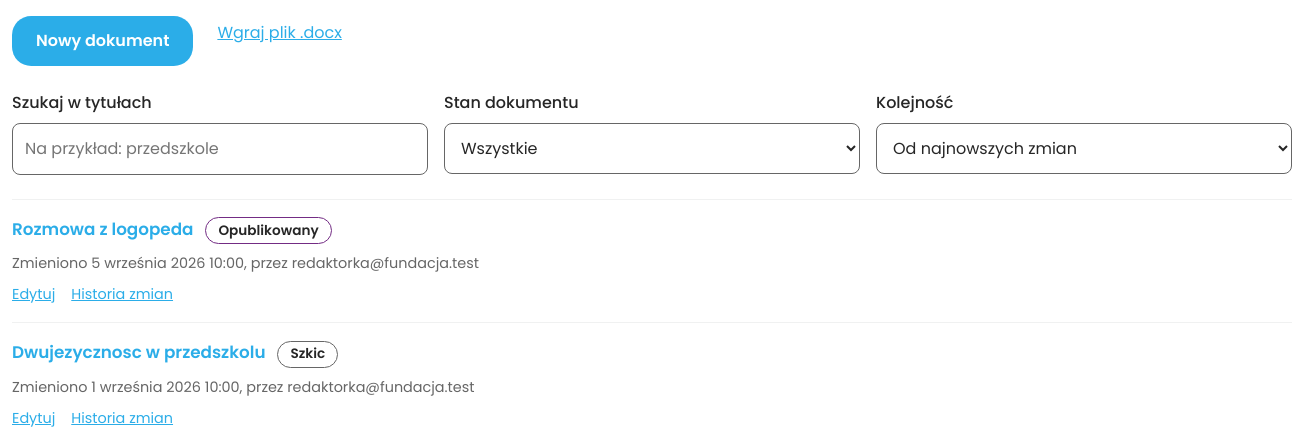
Test: DocumentsList › narrows the list by title
This screenshot has width=1304, height=444.
Check: the link "Dwujezycznosc w przedszkolu" is shown, box [12,339,266,366]
Type "logoped" into the search field labelled "Szukaj w tytułach".
click(220, 149); type("logoped")  # box [12,123,428,175]
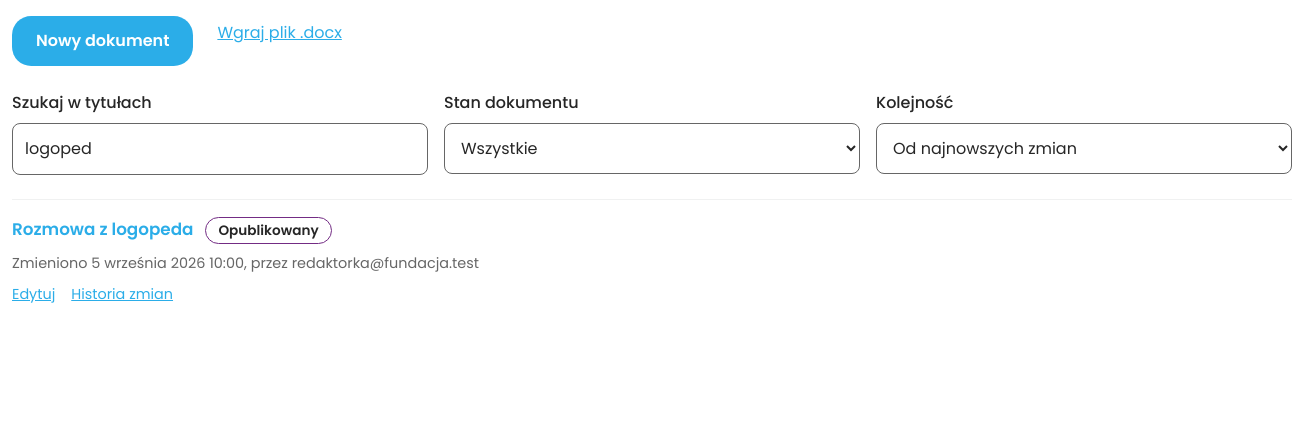
Check: the link "Rozmowa z logopeda" is shown, box [12,216,194,243]
Check: the link "Dwujezycznosc w przedszkolu" is gone
